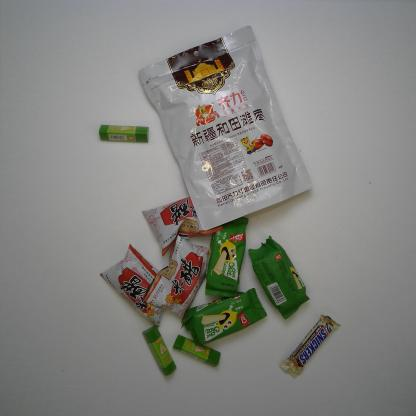Chocolate: (279, 313, 340, 379)
Dessert: (245, 236, 310, 319), (180, 288, 267, 344), (206, 216, 250, 299)
Dried Food: (135, 23, 314, 234)
Seasoner: (143, 235, 214, 319), (100, 242, 166, 325), (140, 197, 226, 257)
Stationery: (142, 326, 176, 374), (174, 334, 221, 367), (98, 124, 150, 145)
